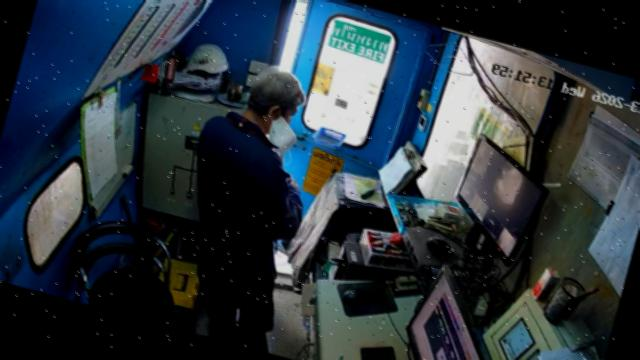Head: (246, 67, 307, 130)
People: (195, 66, 306, 351)
